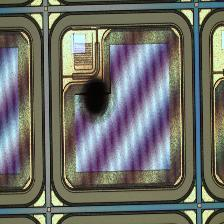PARTICLE: (73, 73, 121, 124)
